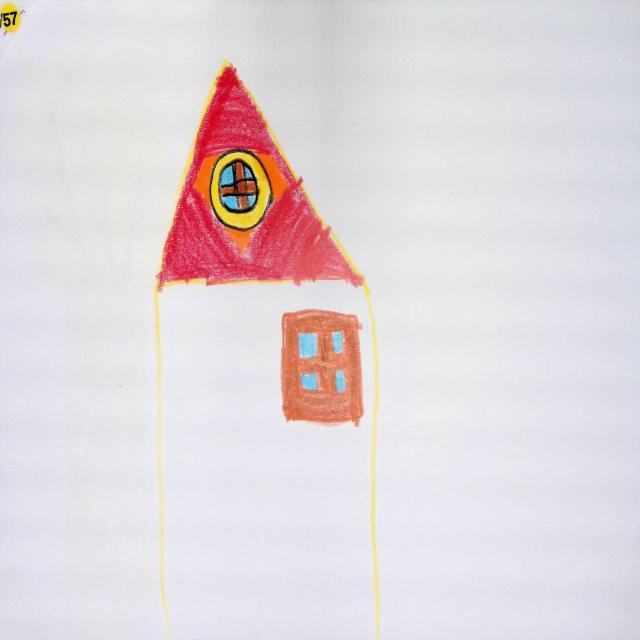house: (154, 65, 381, 640)
roof: (159, 65, 363, 286)
wall: (156, 277, 379, 640)
window: (282, 310, 364, 426), (210, 150, 272, 230)
